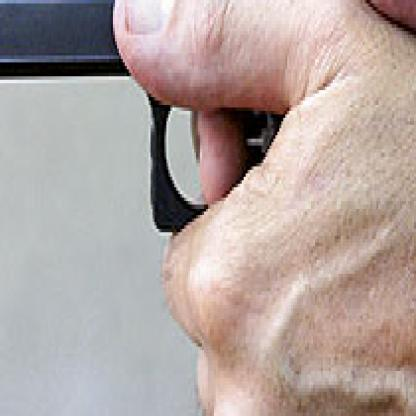gun: (0, 0, 414, 333)
